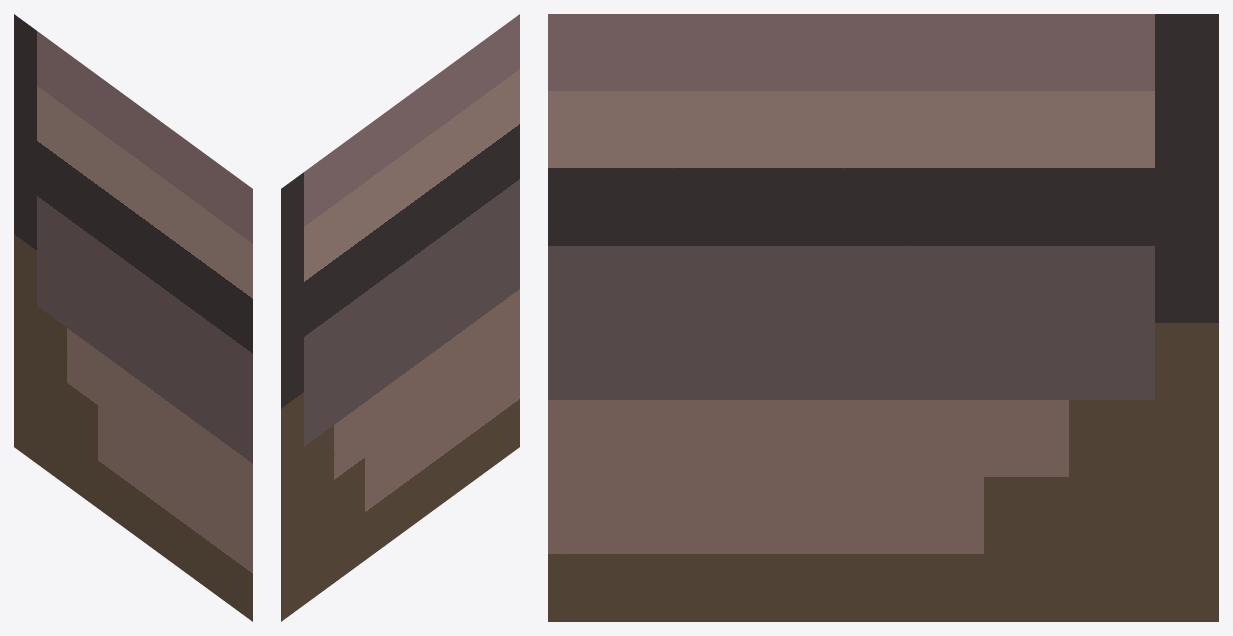
3 renders of one model, left to right at view 1: azimuth 30°, elevation 25°; view 2: azimuth 150°, elevation 25°; view 3: azimuth 270°, elevation 25°, orthographic. The views are drawn at different scales.
Size of the model in its own units: 0 by 0.5 by 0.5.
1 material, 1 textured.
